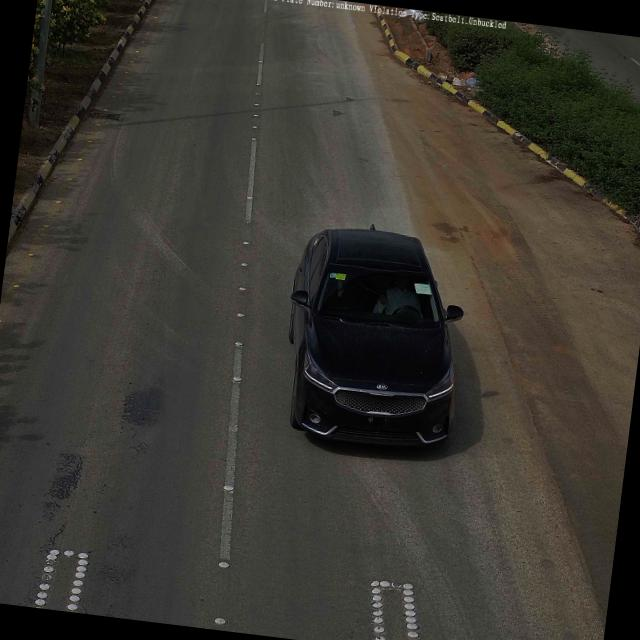person_without_seatbelt: (378, 268, 424, 323)
